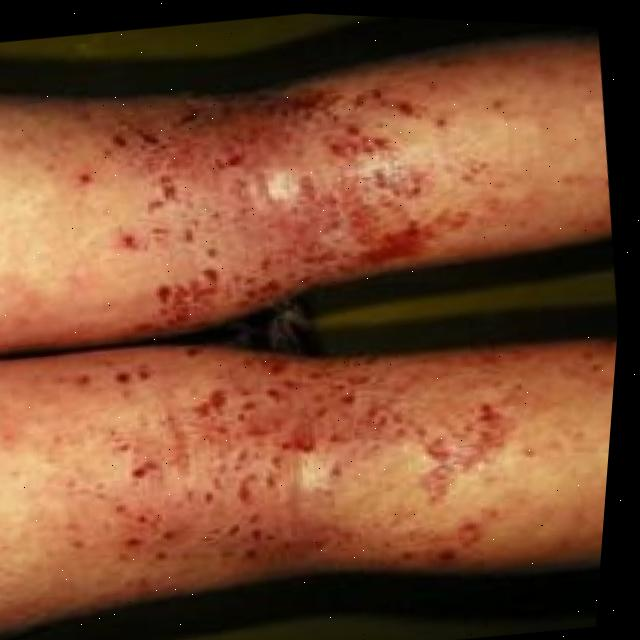Eczema: (35, 342, 532, 596), (62, 82, 422, 298)
